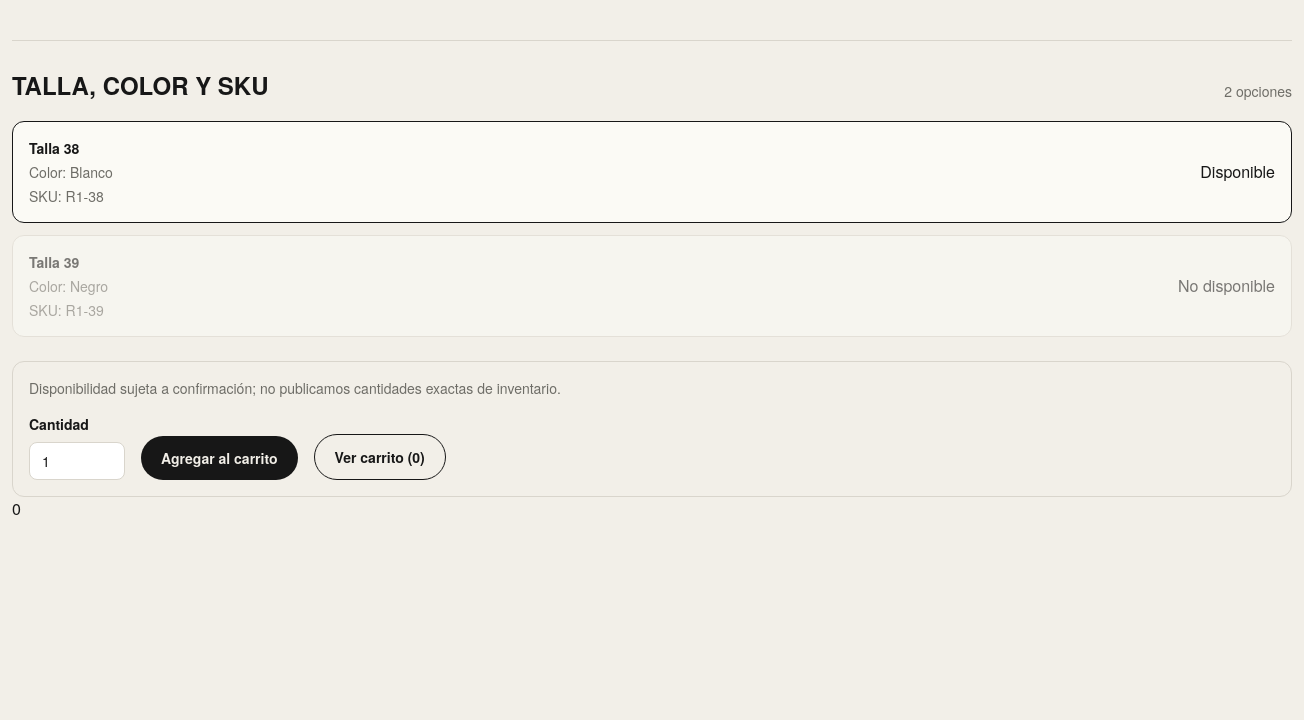
product add-to-cart selector › shows safe variant details, disables unavailable variants, clamps quantity, and gives feedback
Expected: the text "Talla 38" is shown, x1=29 y1=138 x2=79 y2=158
Expected: the text "Color: Blanco" is shown, x1=29 y1=162 x2=113 y2=182
Replace the text in the number field labelled "Cantidad" with "100" at (77, 461), box x1=29 y1=442 x2=125 y2=480
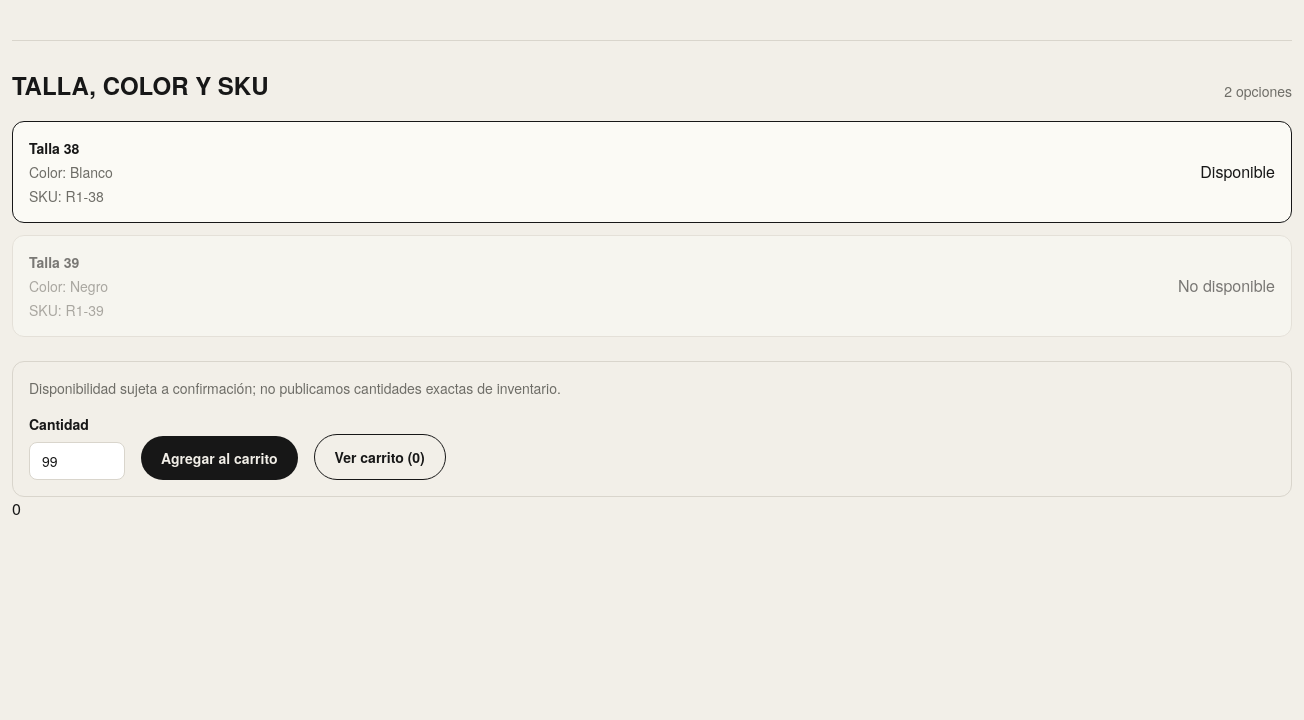
Expected: the number field labelled "Cantidad" holds "99"
Replace the text in the number field labelled "Cantidad" with "0" at (77, 461), box x1=29 y1=442 x2=125 y2=480
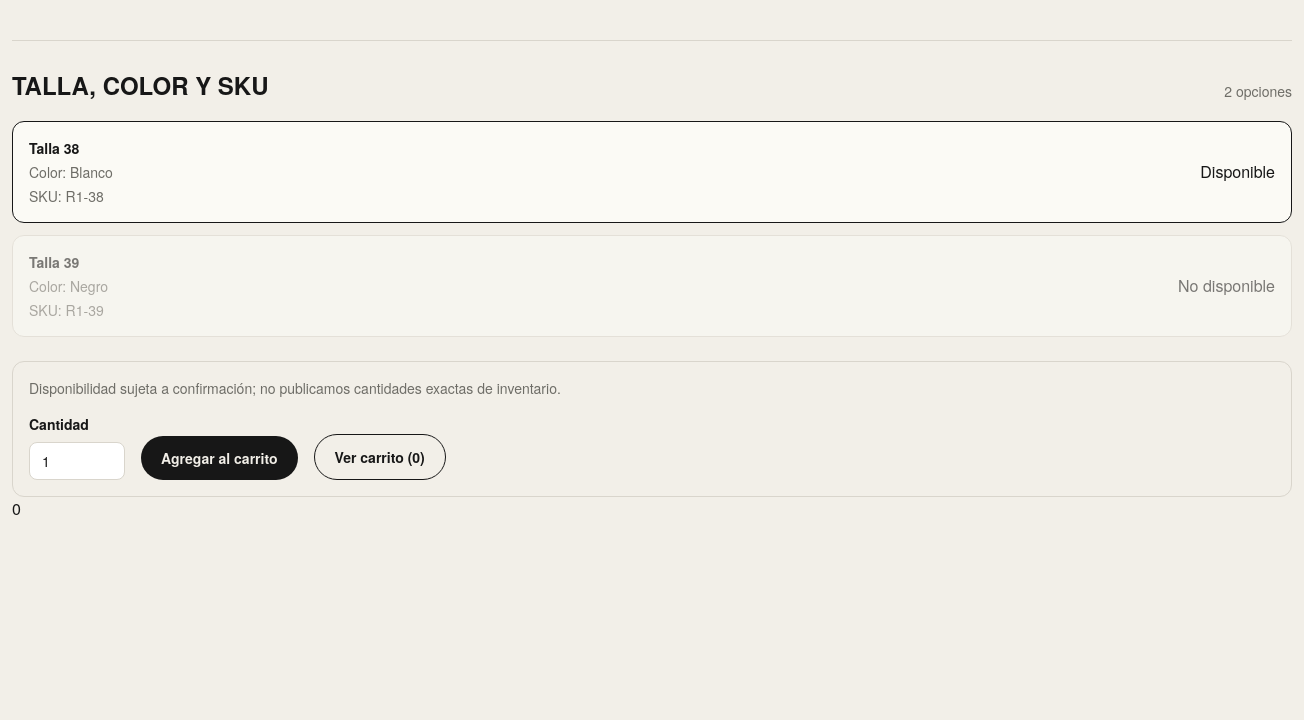
Expected: the number field labelled "Cantidad" holds "1", x1=29 y1=442 x2=125 y2=480
Click the button "Agregar al carrito".
click(219, 458)  # box x1=141 y1=436 x2=298 y2=480
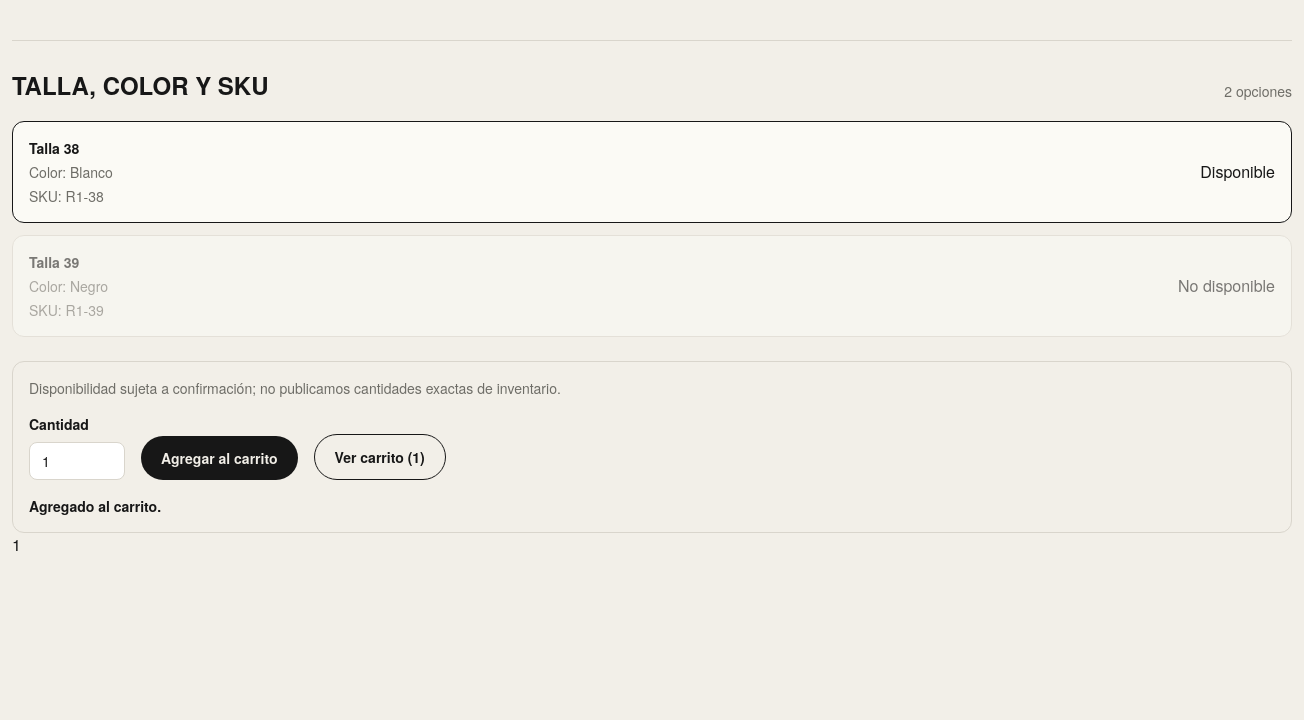
Expected: the message shows "Agregado al carrito", x1=29 y1=496 x2=161 y2=516
Expected: the text with test id "cart-count" reads "1", x1=12 y1=533 x2=21 y2=556
